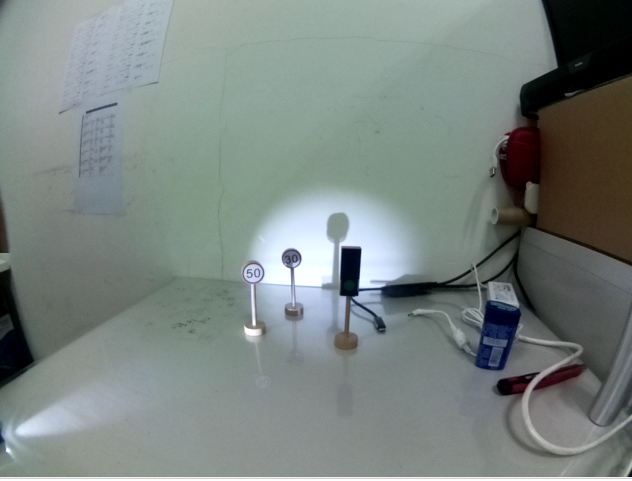Green: (336, 243, 364, 306)
Speed30: (278, 246, 306, 273)
Speed50: (241, 261, 266, 289)
